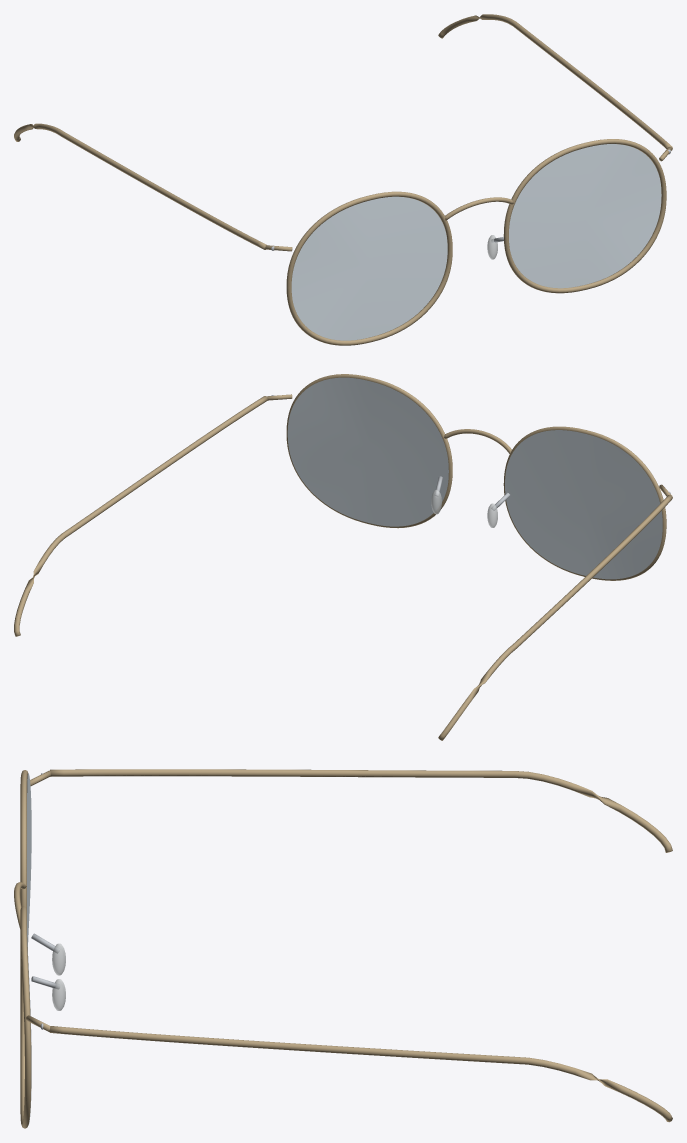
Rendered from tim-25-v1.glb.
3 renders of one model, top to bottom at view 1: azimuth 30°, elevation 25°; view 2: azimuth 150°, elevation 25°; view 3: azimuth 270°, elevation 25°, orthographic. The views are drawn at different scales.
Parts seen in each view (by area): view 1: lens_right, lens_left, rim_right, rim_left, temple_right, temple_left; view 2: lens_left, lens_right, temple_left, temple_right, rim_left, rim_right; view 3: temple_right, temple_left, rim_left, rim_right, lens_right.
Boxes of the visible parts, left/top/right/bottom form: lens_right: left=291, top=196, right=447, bottom=340; lens_left: left=509, top=144, right=661, bottom=288; rim_right: left=286, top=191, right=452, bottom=345; rim_left: left=503, top=139, right=666, bottom=293; temple_right: left=14, top=123, right=266, bottom=249; temple_left: left=438, top=14, right=672, bottom=149; lens_left: left=287, top=377, right=448, bottom=526; lens_right: left=505, top=430, right=662, bottom=579; temple_left: left=14, top=396, right=267, bottom=636; temple_right: left=438, top=494, right=672, bottom=740; rim_left: left=286, top=374, right=452, bottom=528; rim_right: left=503, top=426, right=666, bottom=580; temple_right: left=50, top=769, right=672, bottom=852; temple_left: left=49, top=1026, right=672, bottom=1122; rim_left: left=20, top=906, right=31, bottom=1128; rim_right: left=20, top=770, right=28, bottom=908; lens_right: left=27, top=773, right=31, bottom=947.
Size of the model in its own units: 0.1547 by 0.0476 by 0.149.
